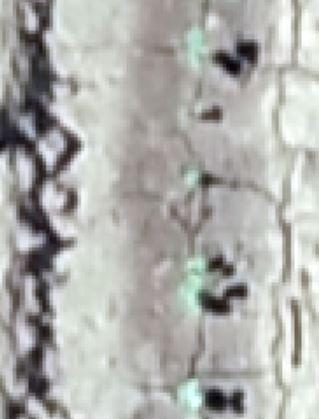cotton: (180, 381, 201, 408), (187, 30, 203, 63), (182, 282, 200, 302), (190, 258, 208, 274), (187, 168, 200, 185)
